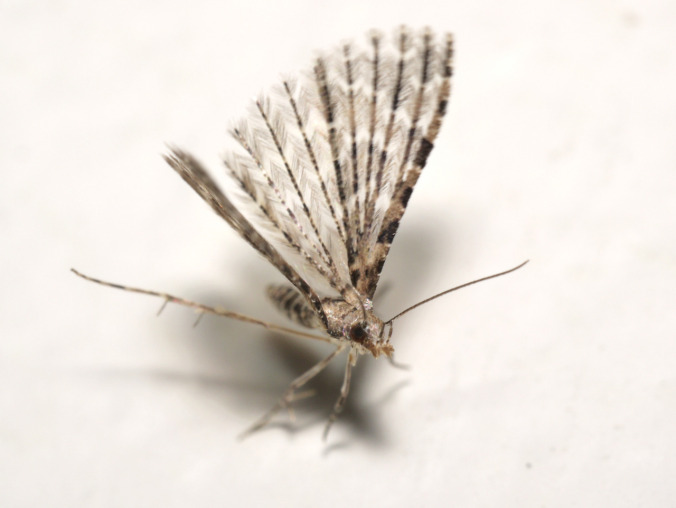Alucitidae: (55, 16, 537, 441)
moth: (57, 18, 539, 443)
